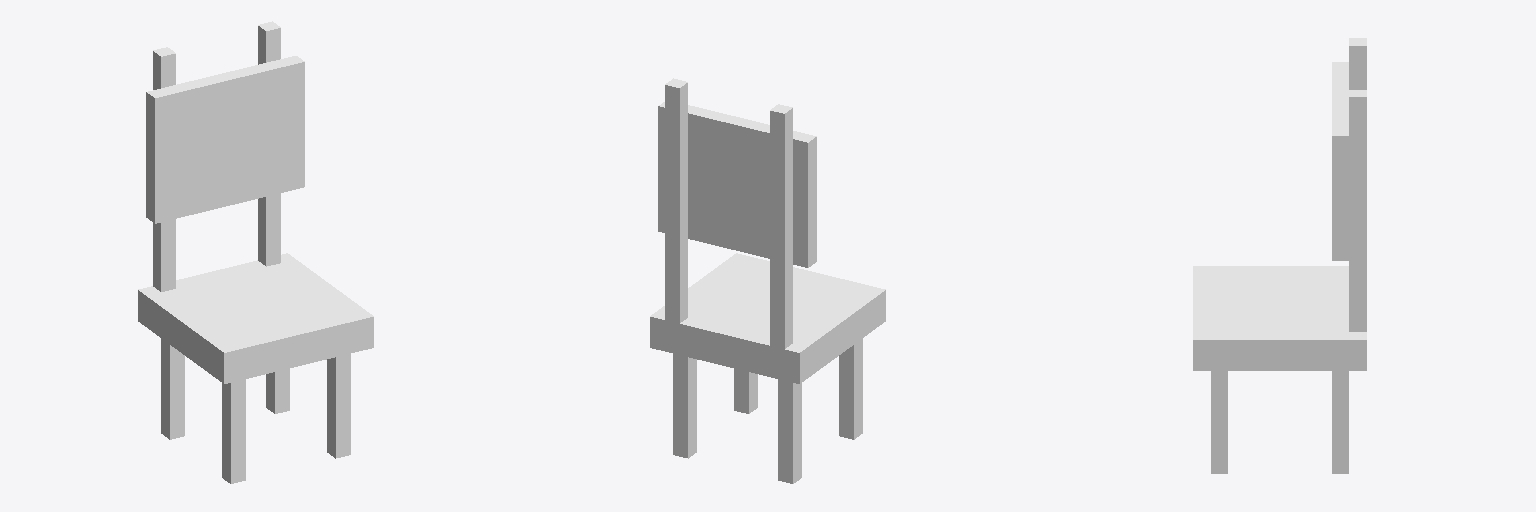
Rendered from chair.obj.
3 renders of one model, left to right at view 1: azimuth 30°, elevation 25°; view 2: azimuth 150°, elevation 25°; view 3: azimuth 270°, elevation 25°, orthographic.
Visible parts, largest first — view 1: chair; view 2: chair; view 3: chair.
Part boxes in pixels (left/top/right/bottom): chair: left=138, top=21, right=373, bottom=483; chair: left=650, top=78, right=885, bottom=483; chair: left=1193, top=38, right=1366, bottom=473.
Size of the model in its own units: 7.67 by 18.42 by 7.67.